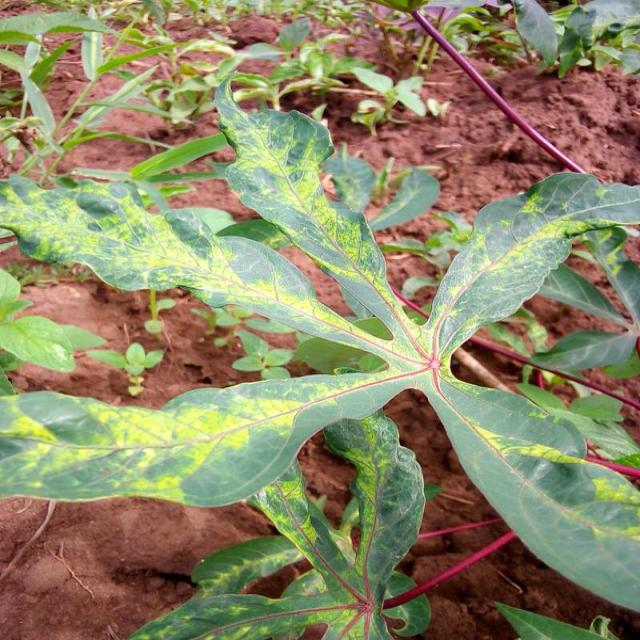cassava leaf: (2, 71, 640, 620)
